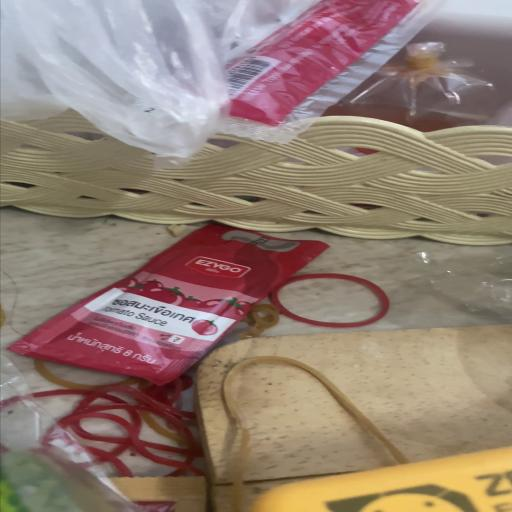brand_golden_good: (196, 326, 511, 511)
